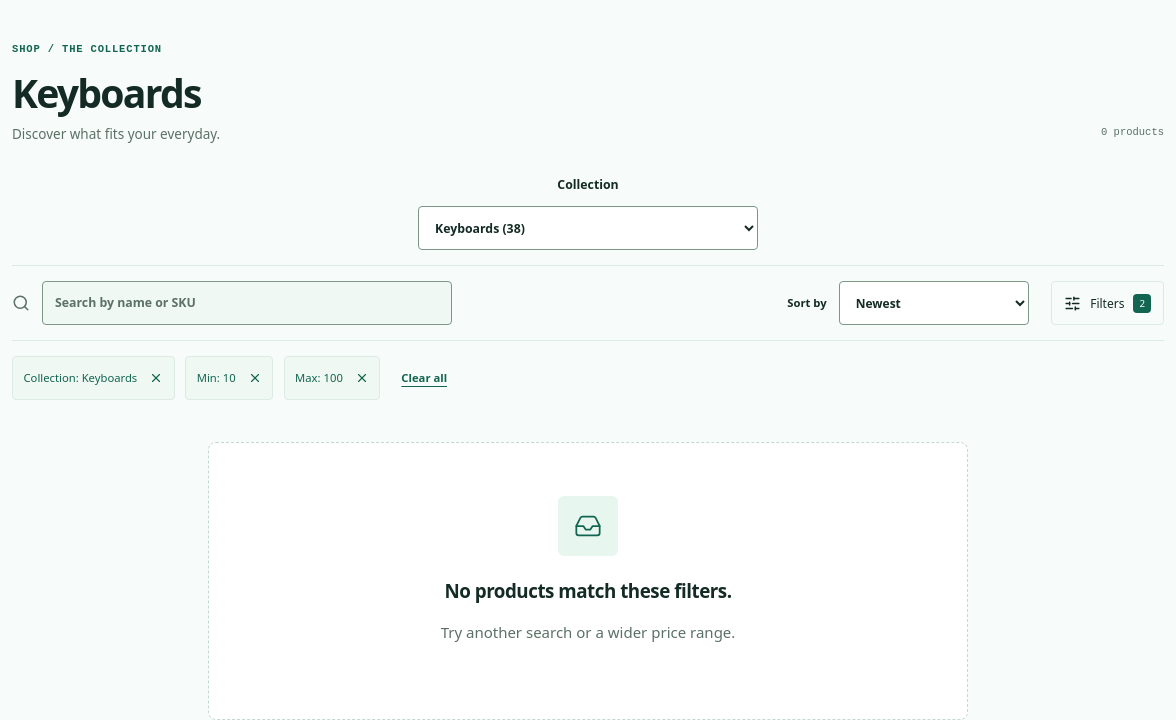
Scenario: removes a collection filter while preserving search and price state
The width and height of the screenshot is (1176, 720).
Click the button with aria-label "Remove collection filter": (93, 378) 12,356 -> 175,400
(page scrolled)
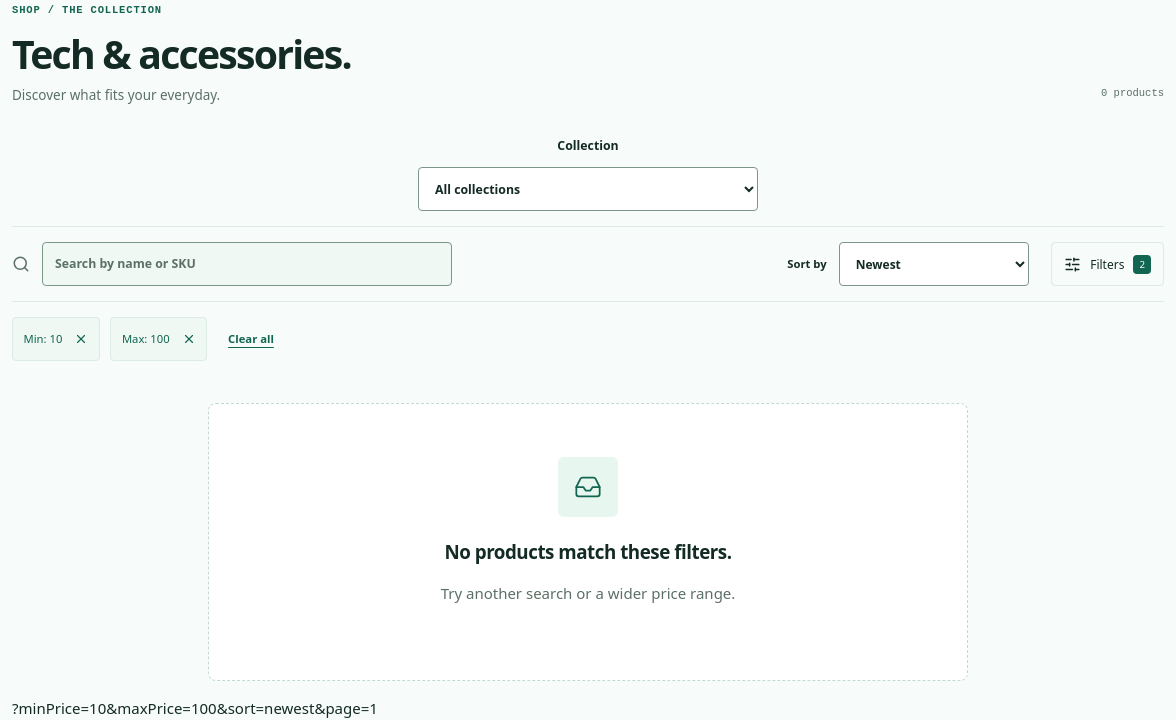
Expected: the text with test id "location" shows "minPrice=10", 12,698 -> 378,718
Result: the text with test id "location" no longer shows "category" at 12,698 -> 378,718
Result: the text with test id "location" shows "page=1" at 12,698 -> 378,718
